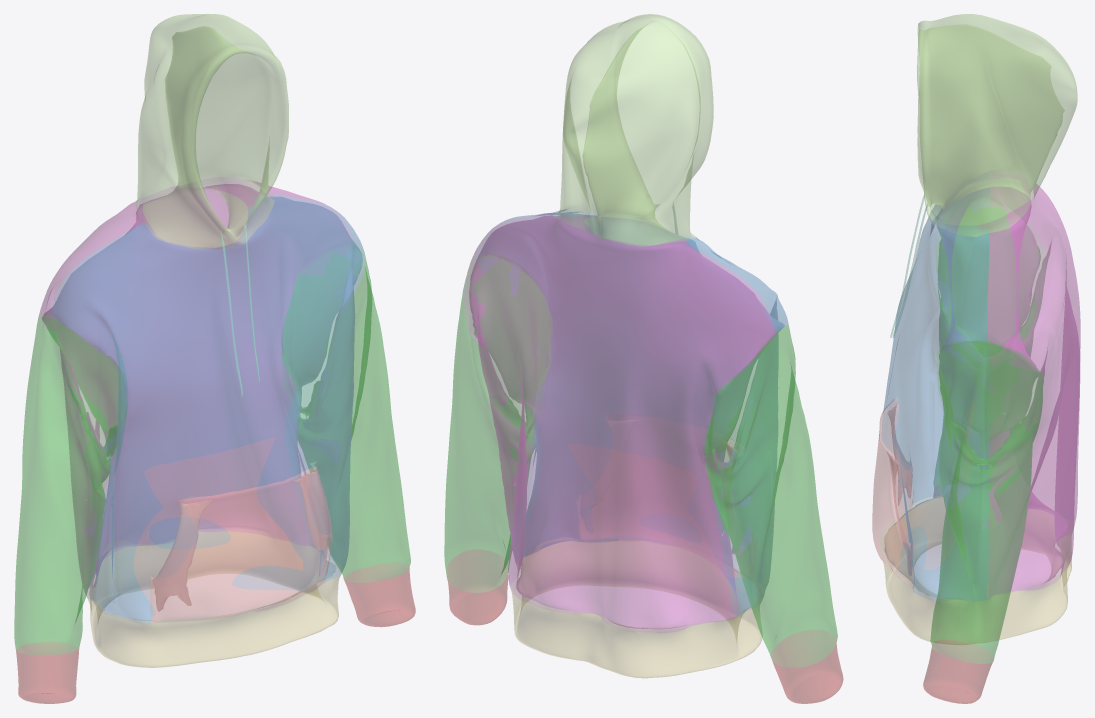
Rendered from Hoodie_Resize(2).glb.
The picture shows the model from 3 angles, left to right: view 1: azimuth 30°, elevation 25°; view 2: azimuth 150°, elevation 25°; view 3: azimuth 270°, elevation 25°; orthographic projection. The views are drawn at different scales.
Visible parts, largest first — view 1: Front, Back, Head, RightHand, FrontBAG, LeftHand, FrontLow, BackDown, LeftHandDown, RightHandDown, HeadBand; view 2: Back, Front, Head, RightHand, LeftHand, BackDown, FrontLow, FrontBAG, RightHandDown, LeftHandDown; view 3: Back, Front, Head, LeftHand, RightHand, FrontBAG, BackDown, FrontLow, LeftHandDown, HeadBand.
Part boxes in pixels (<box>): Front: <box>49,194,365,623</box>; Back: <box>39,177,354,597</box>; Head: <box>135,14,288,249</box>; RightHand: <box>14,314,126,655</box>; FrontBAG: <box>134,438,332,623</box>; LeftHand: <box>282,243,410,582</box>; FrontLow: <box>95,558,341,667</box>; BackDown: <box>87,531,330,649</box>; LeftHandDown: <box>344,563,415,626</box>; RightHandDown: <box>16,642,78,703</box>; HeadBand: <box>221,224,259,396</box>; Back: <box>464,213,776,632</box>; Front: <box>475,210,788,615</box>; Head: <box>553,14,713,246</box>; RightHand: <box>704,325,837,667</box>; LeftHand: <box>444,255,550,592</box>; BackDown: <box>511,557,744,677</box>; FrontLow: <box>527,541,762,657</box>; FrontBAG: <box>579,439,741,632</box>; RightHandDown: <box>771,630,843,703</box>; LeftHandDown: <box>447,550,508,624</box>; Back: <box>978,184,1080,597</box>; Front: <box>881,187,989,600</box>; Head: <box>917,14,1077,236</box>; LeftHand: <box>930,340,1044,663</box>; RightHand: <box>933,206,1048,488</box>; FrontBAG: <box>872,397,1074,586</box>; BackDown: <box>958,509,1072,644</box>; FrontLow: <box>880,496,965,644</box>; LeftHandDown: <box>923,640,993,703</box>; HeadBand: <box>890,195,927,337</box>.
Bounding box in the file's own units: 0.0217 × 0.034 × 0.0106.
